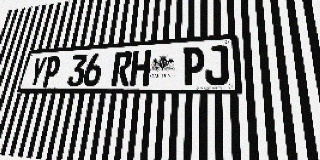3: (66, 54, 88, 87)
6: (82, 53, 104, 86)
H: (129, 50, 151, 86)
J: (205, 45, 229, 85)
P: (182, 46, 204, 85), (41, 56, 62, 87)
R: (111, 51, 133, 86)
Y: (27, 57, 48, 87)
